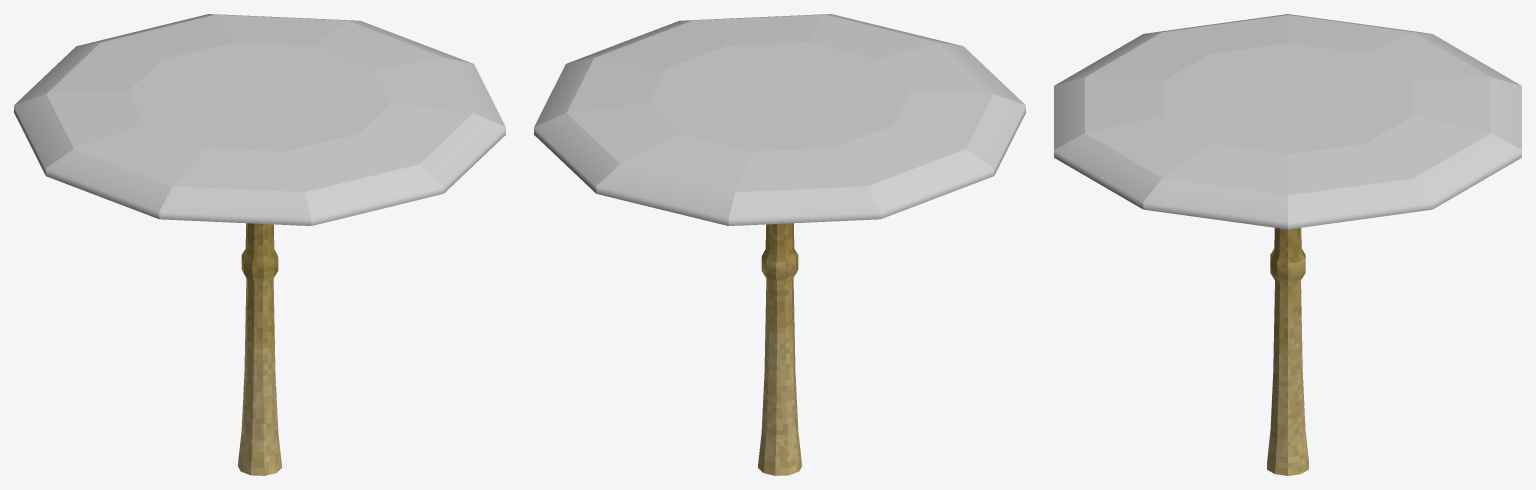
Rendered from BigShroom.fbx.
3 views of the same model, side by side, from view 1: azimuth 30°, elevation 25°; view 2: azimuth 150°, elevation 25°; view 3: azimuth 270°, elevation 25° (orthographic).
Visible parts, largest first — view 1: pCylinder7; view 2: pCylinder7; view 3: pCylinder7.
Part boxes in pixels (x1,y1,x2,y2): pCylinder7: [14, 14, 505, 475]; pCylinder7: [534, 14, 1025, 475]; pCylinder7: [1054, 14, 1521, 475].
Bounding box in the file's own units: 14.82 × 12.23 × 14.09.
